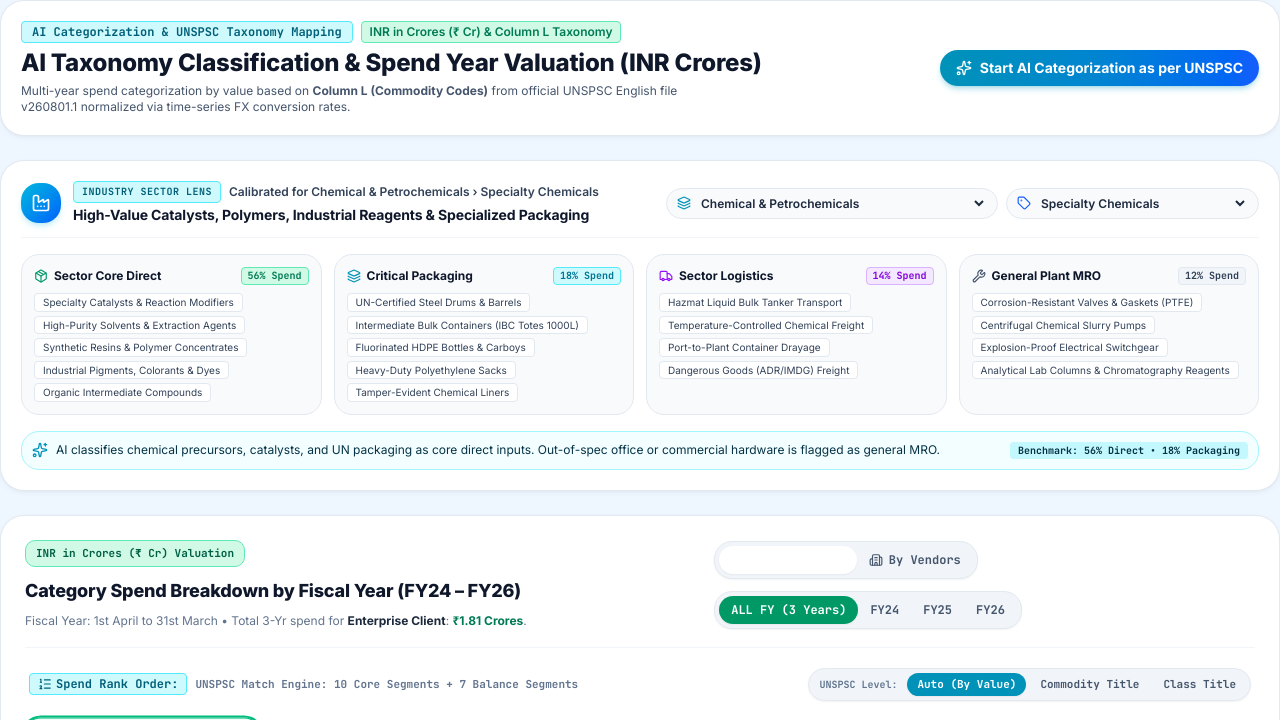
Test: Module2Categorization Component › renders correctly and switches AI models
Click the button "Start AI Categorization as per UNSPSC" at (1099,68), box [940,50,1259,86]
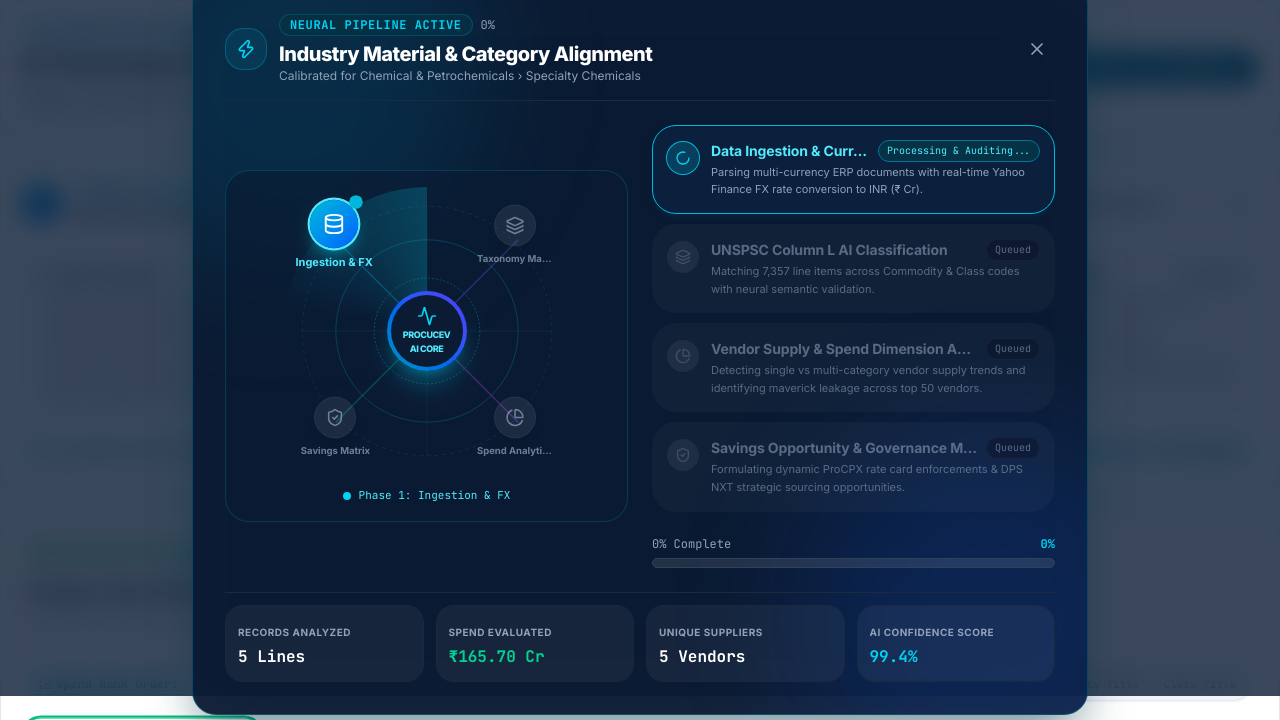
Check: the dialog is shown
Click the button named "Cancel Analysis" at (1037,49), box [1019,31,1055,67]
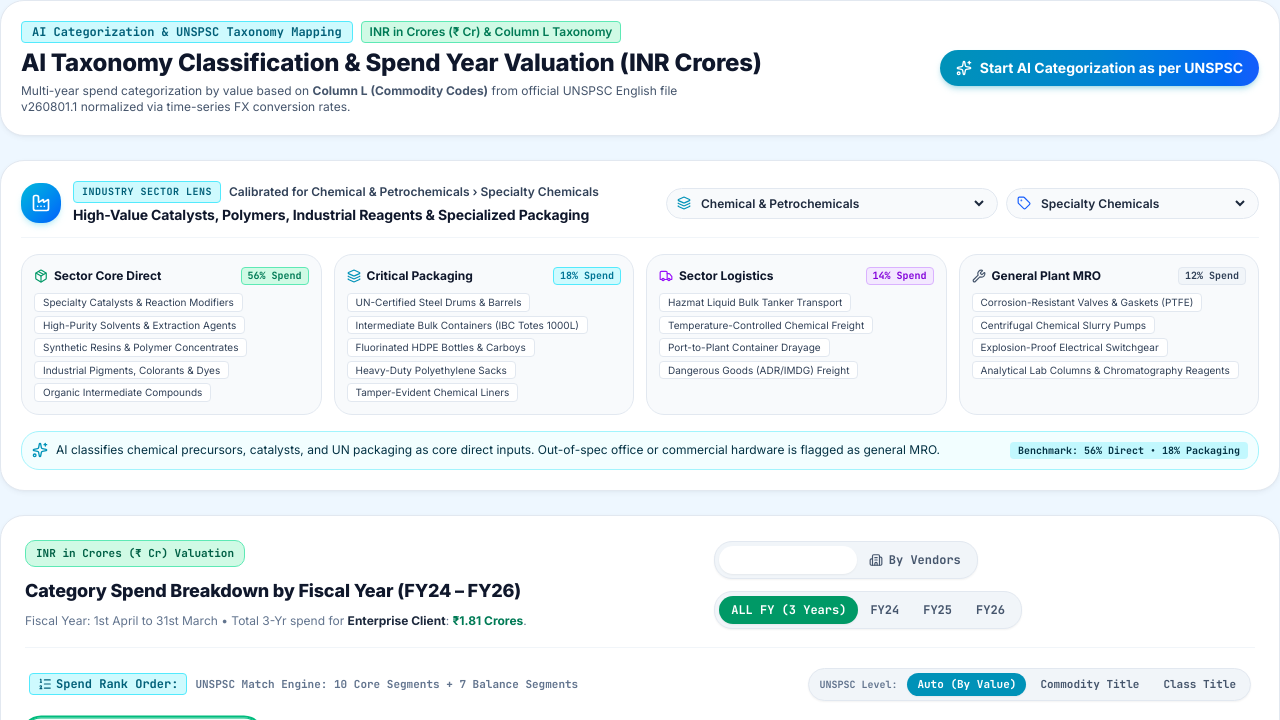
Check: the dialog is gone
